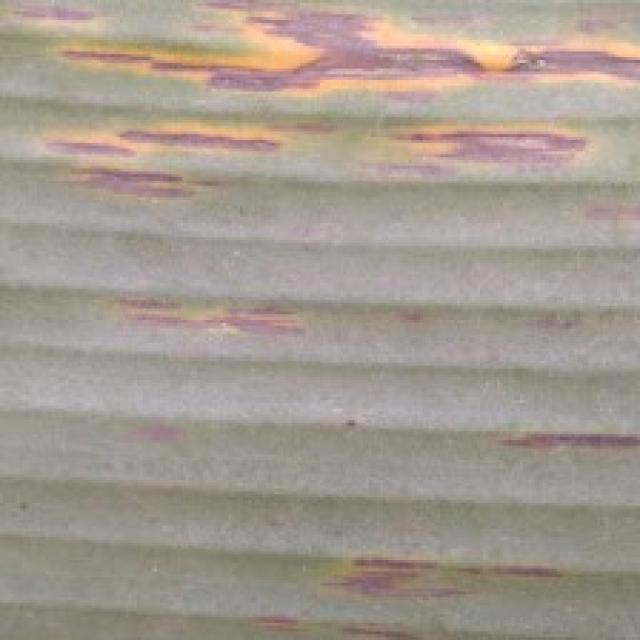Early_leaf_spot: (51, 0, 639, 111), (238, 520, 567, 640), (36, 111, 293, 220), (348, 110, 614, 190), (111, 279, 320, 348), (508, 408, 640, 474), (0, 0, 124, 32)
